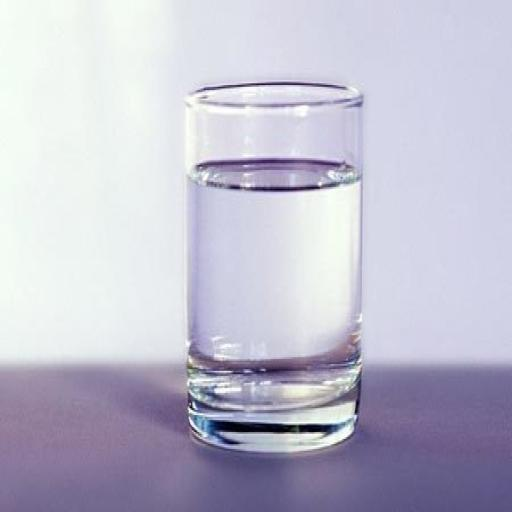cup: (185, 82, 362, 451)
